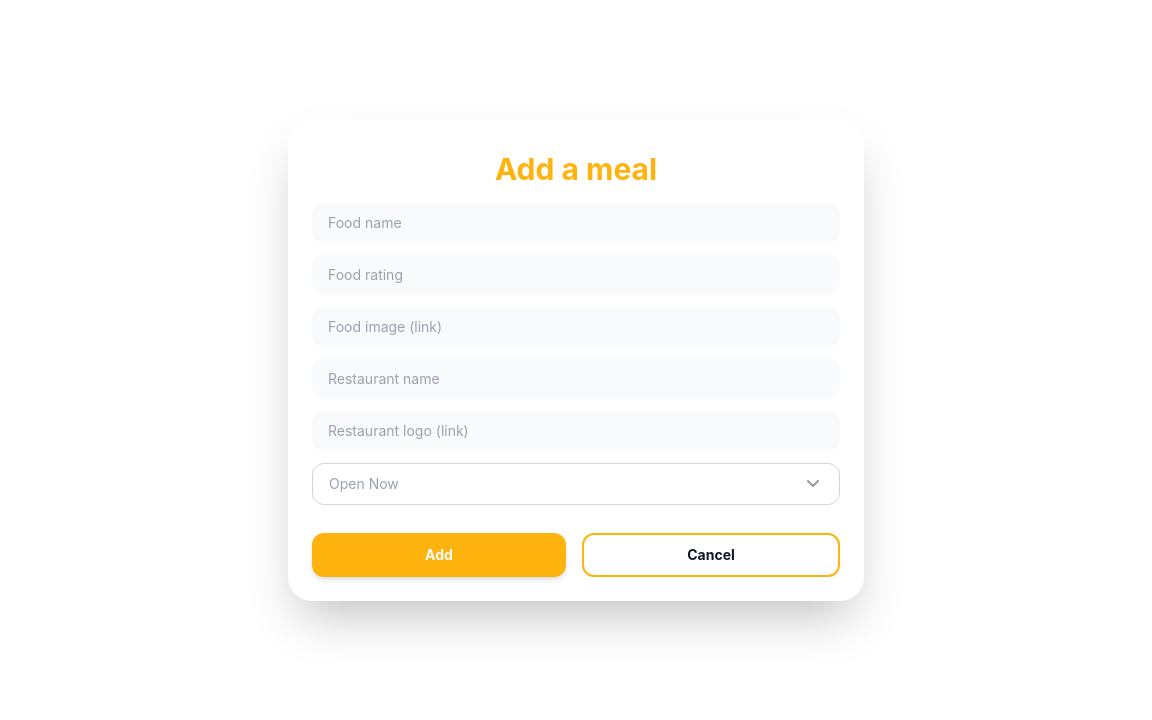
Test: FoodModal Component › Form Input and Submission › shows validation errors for empty required fields
What coordinates should you click on to do the following:
click the button "Add"
I would click on:
 (439, 555)
Its box is [312,533,566,577].
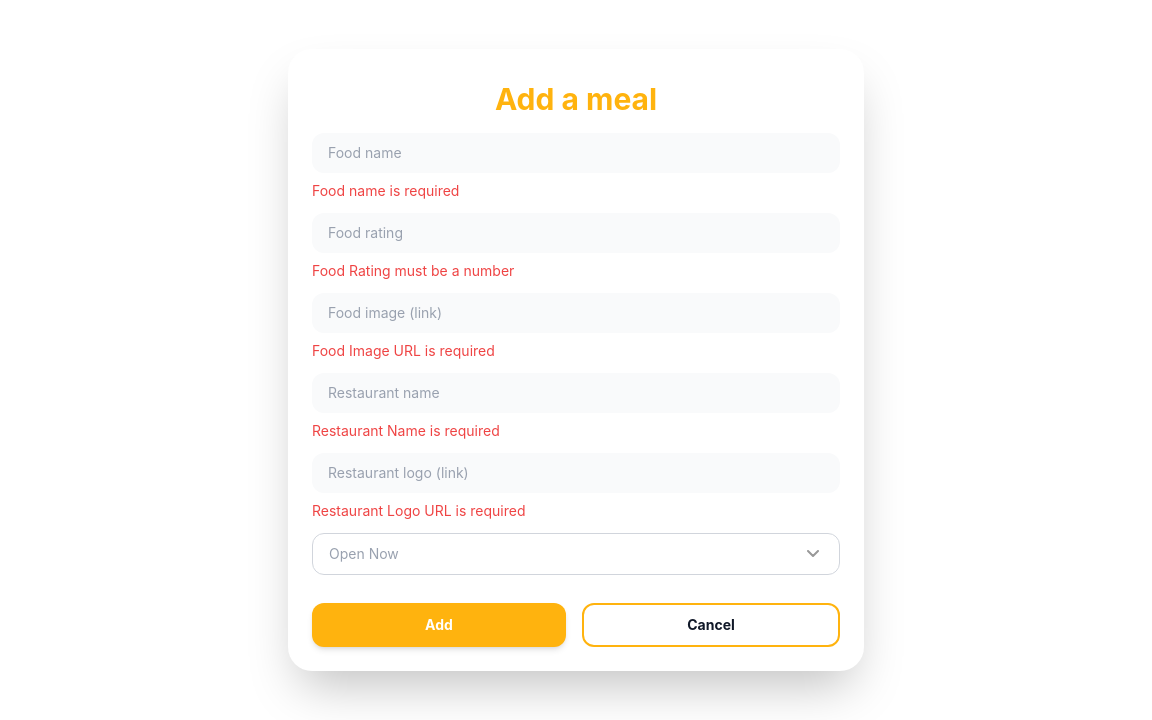
Expected: the text "Food name is required" is shown, [312,182,459,199]
Expected: the text "Food Rating must be a number" is shown, [312,262,514,279]
Expected: the text "Food Image URL is required" is shown, [312,342,495,359]
